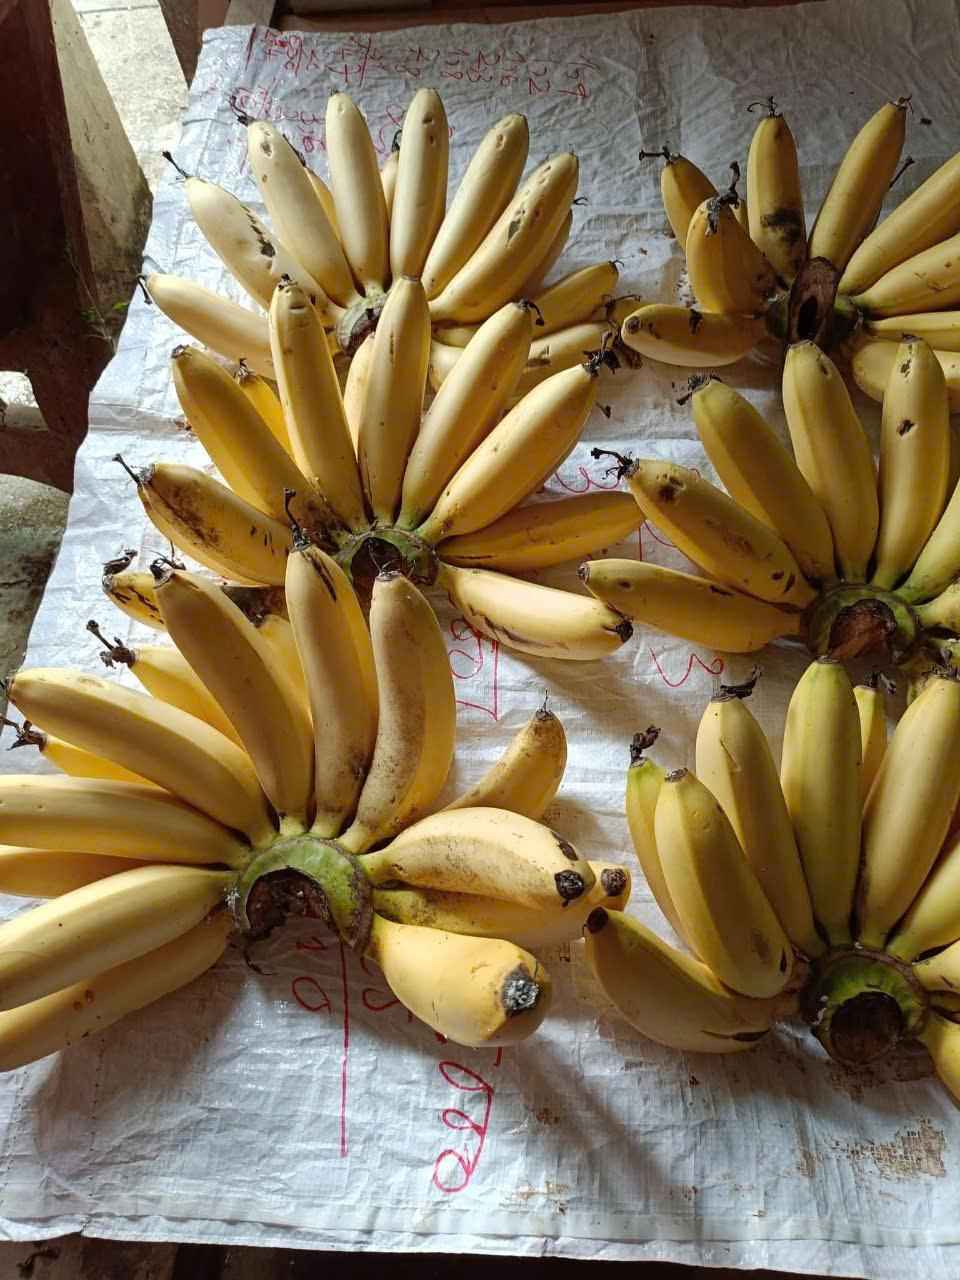banana: (266, 540, 583, 1060), (590, 650, 960, 1089), (0, 536, 253, 1109), (143, 90, 620, 340), (653, 76, 960, 368), (636, 370, 960, 635)
